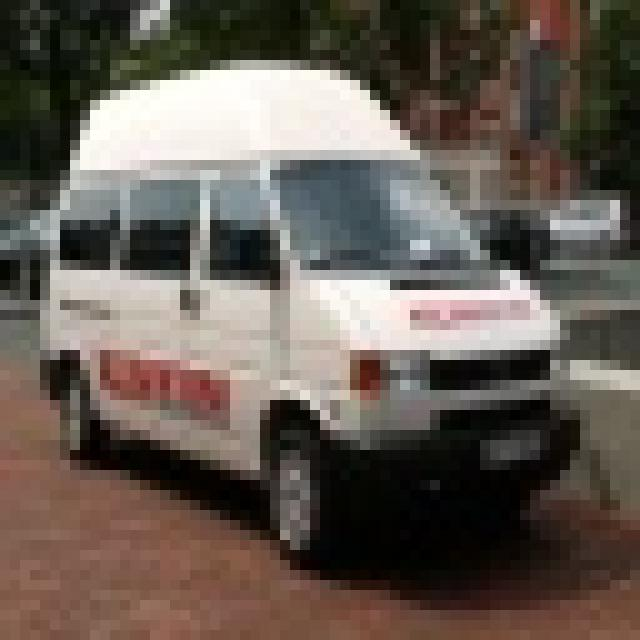Ambulance: (30, 50, 580, 560)
